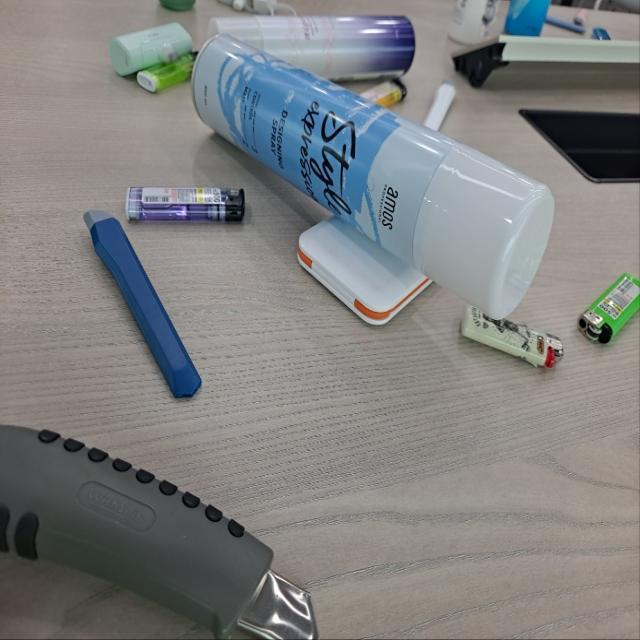cutter: (0, 417, 326, 640), (78, 206, 210, 401), (418, 76, 462, 134)
lighter: (458, 298, 572, 374), (123, 177, 250, 228), (576, 269, 640, 352), (130, 51, 202, 88), (356, 72, 410, 112)
portable_charger: (280, 194, 441, 328), (108, 17, 196, 82)
spray: (189, 32, 560, 325), (202, 14, 423, 82)
